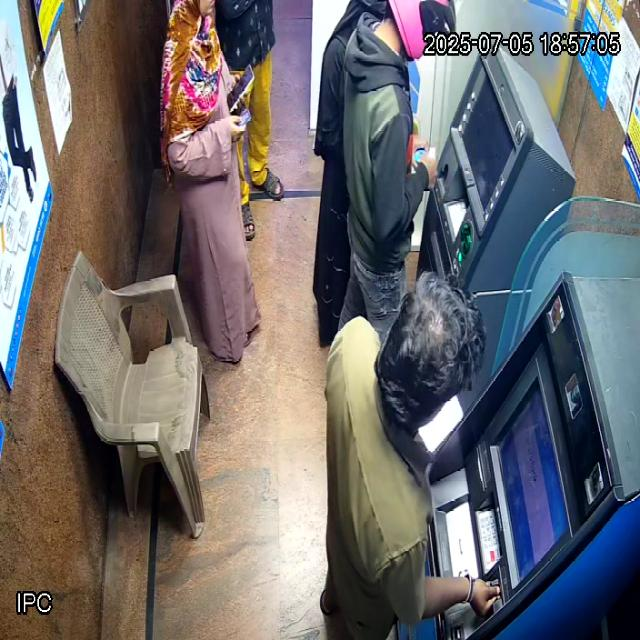helmet: (375, 0, 457, 63)
no_helmet: (374, 271, 487, 432)
